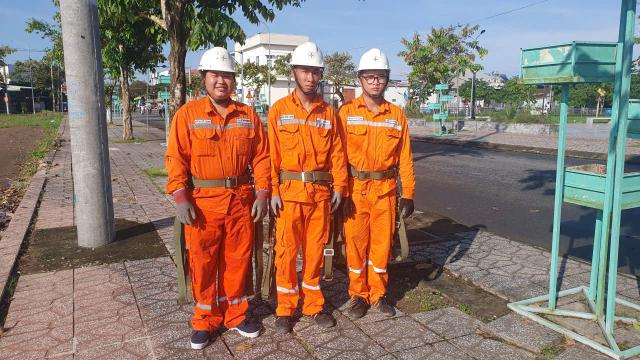gloves: (168, 194, 203, 230), (244, 188, 268, 222), (338, 190, 356, 220), (270, 183, 284, 220), (399, 192, 418, 219), (326, 185, 341, 214)
harness: (270, 163, 338, 191), (346, 160, 402, 187), (186, 170, 254, 192)
helmet: (280, 40, 328, 74), (198, 45, 245, 70), (352, 44, 392, 72)
shoes: (176, 324, 212, 353), (302, 306, 338, 331), (223, 316, 261, 338), (372, 293, 401, 319), (349, 292, 372, 322), (268, 312, 292, 335)
